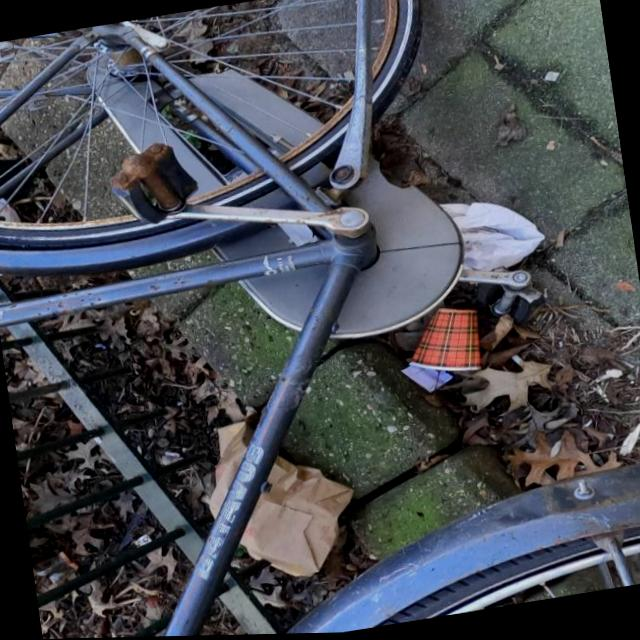Cup: (397, 302, 490, 388)
